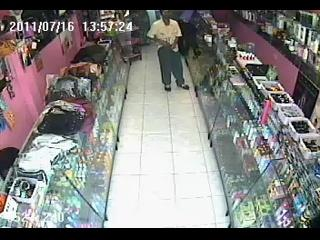Normal: (146, 11, 190, 92)
